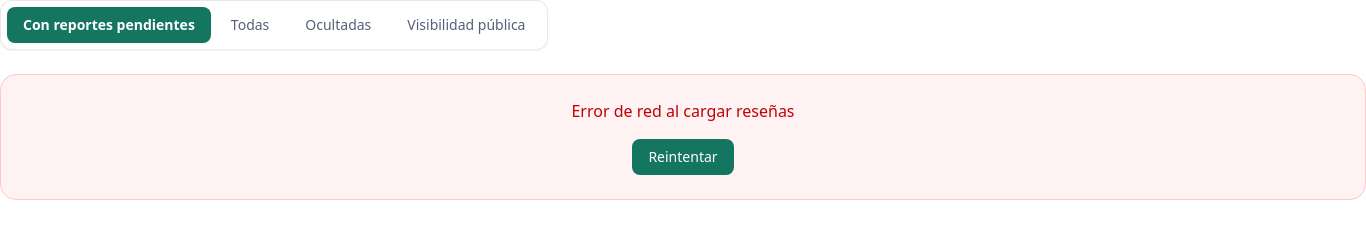
Test case: ModerationPage › displays load errors and allows retry
Check: the text "Error de red al cargar reseñas" is shown, box [572,100,795,122]
Click the button "Reintentar" at (683, 157), box [632,139,734,175]
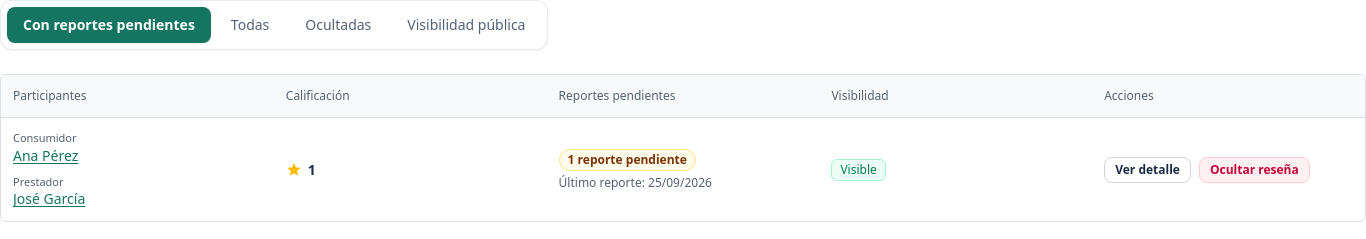
Check: the link "Ana Pérez" is shown, box [13,146,78,165]
